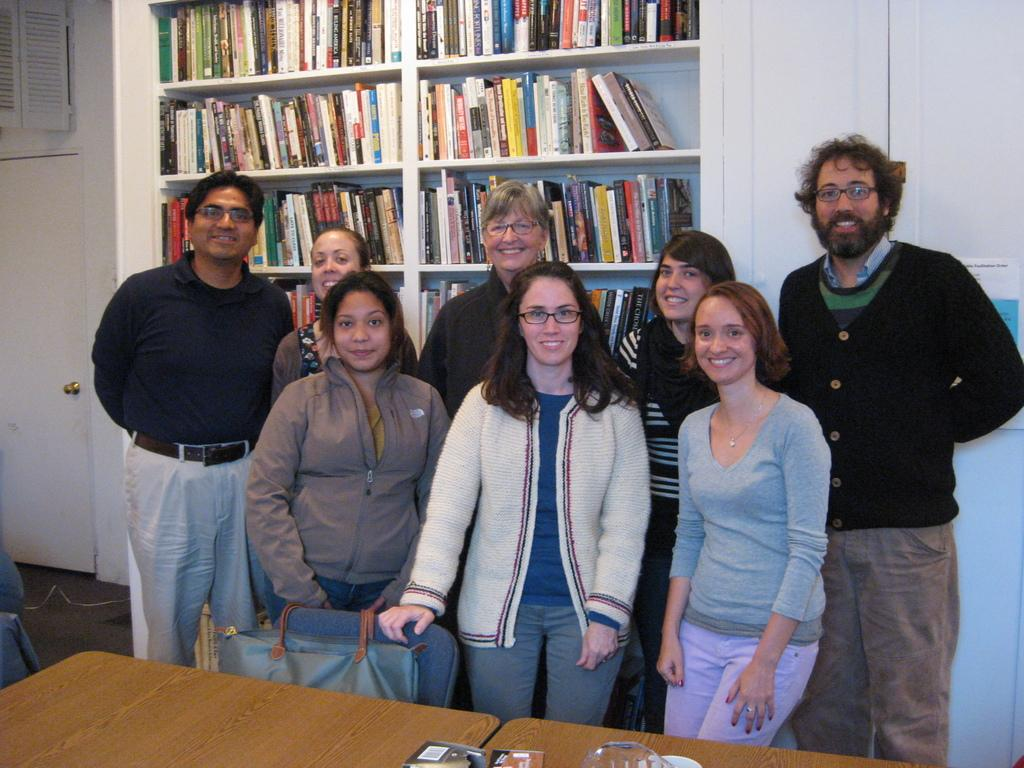Luggage-and-bags: (193, 595, 460, 708)
